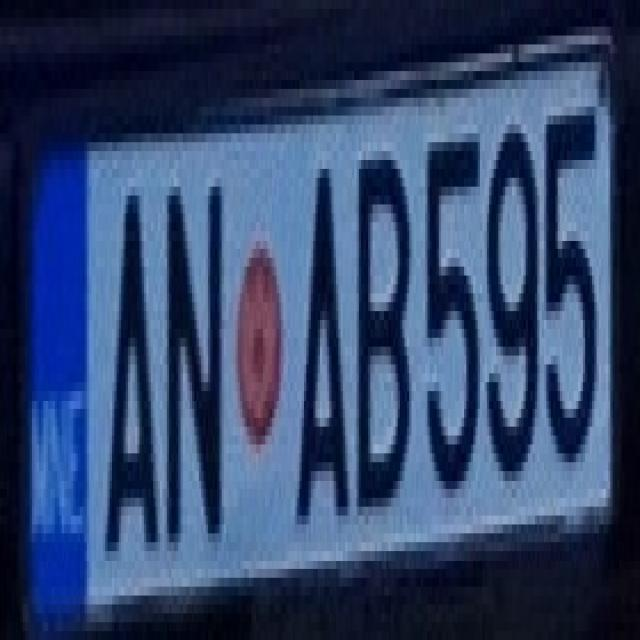5: (411, 98, 478, 489), (537, 89, 601, 462)
9: (475, 98, 542, 480)
A: (91, 160, 158, 542), (286, 134, 348, 516)
B: (347, 133, 414, 507)
N: (153, 160, 224, 534)
